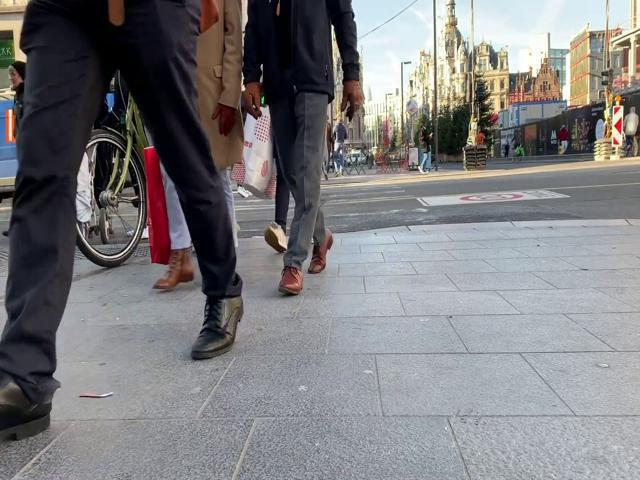shoe: (191, 298, 244, 359), (152, 248, 194, 289), (308, 228, 332, 273), (264, 221, 287, 252), (278, 266, 303, 294)
